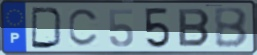5: (144, 7, 172, 50), (107, 8, 135, 49)
B: (212, 7, 250, 50), (177, 8, 212, 49)
C: (67, 7, 101, 49)
D: (30, 6, 65, 50)
